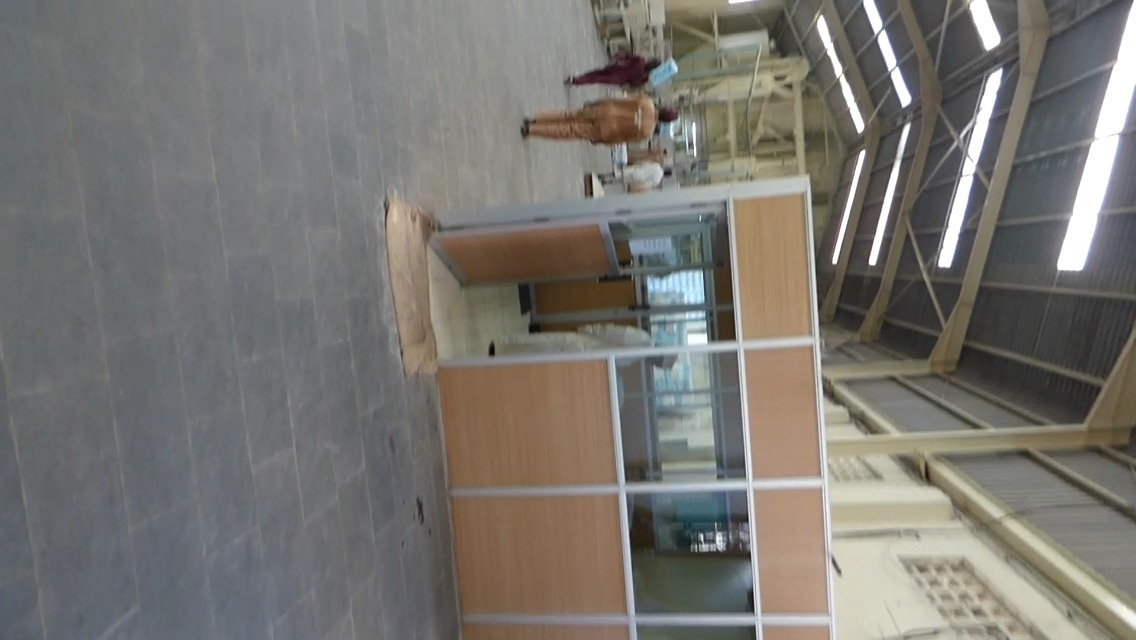maize_flour_green_label: (646, 55, 681, 85)
